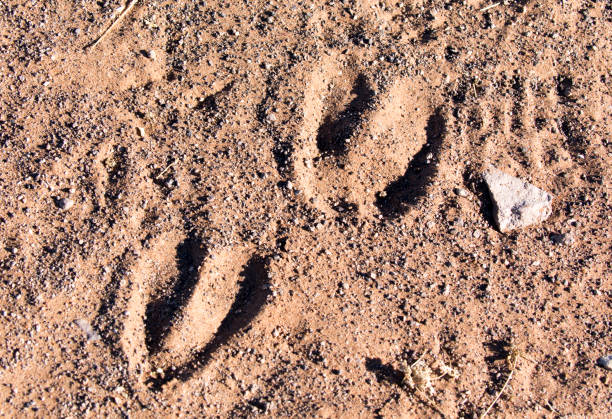animal_footprint: (293, 56, 446, 216), (121, 231, 268, 388), (455, 71, 586, 192)
